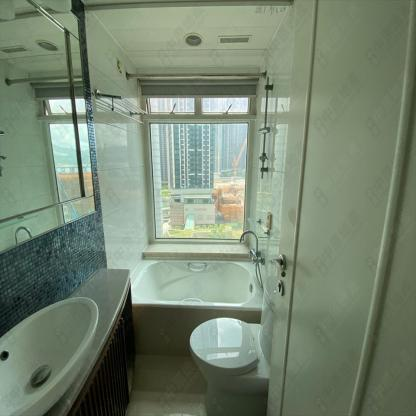Bathtub: (129, 260, 264, 354)
Toilet: (189, 276, 277, 415)
Toilet Sink: (0, 297, 100, 415)
